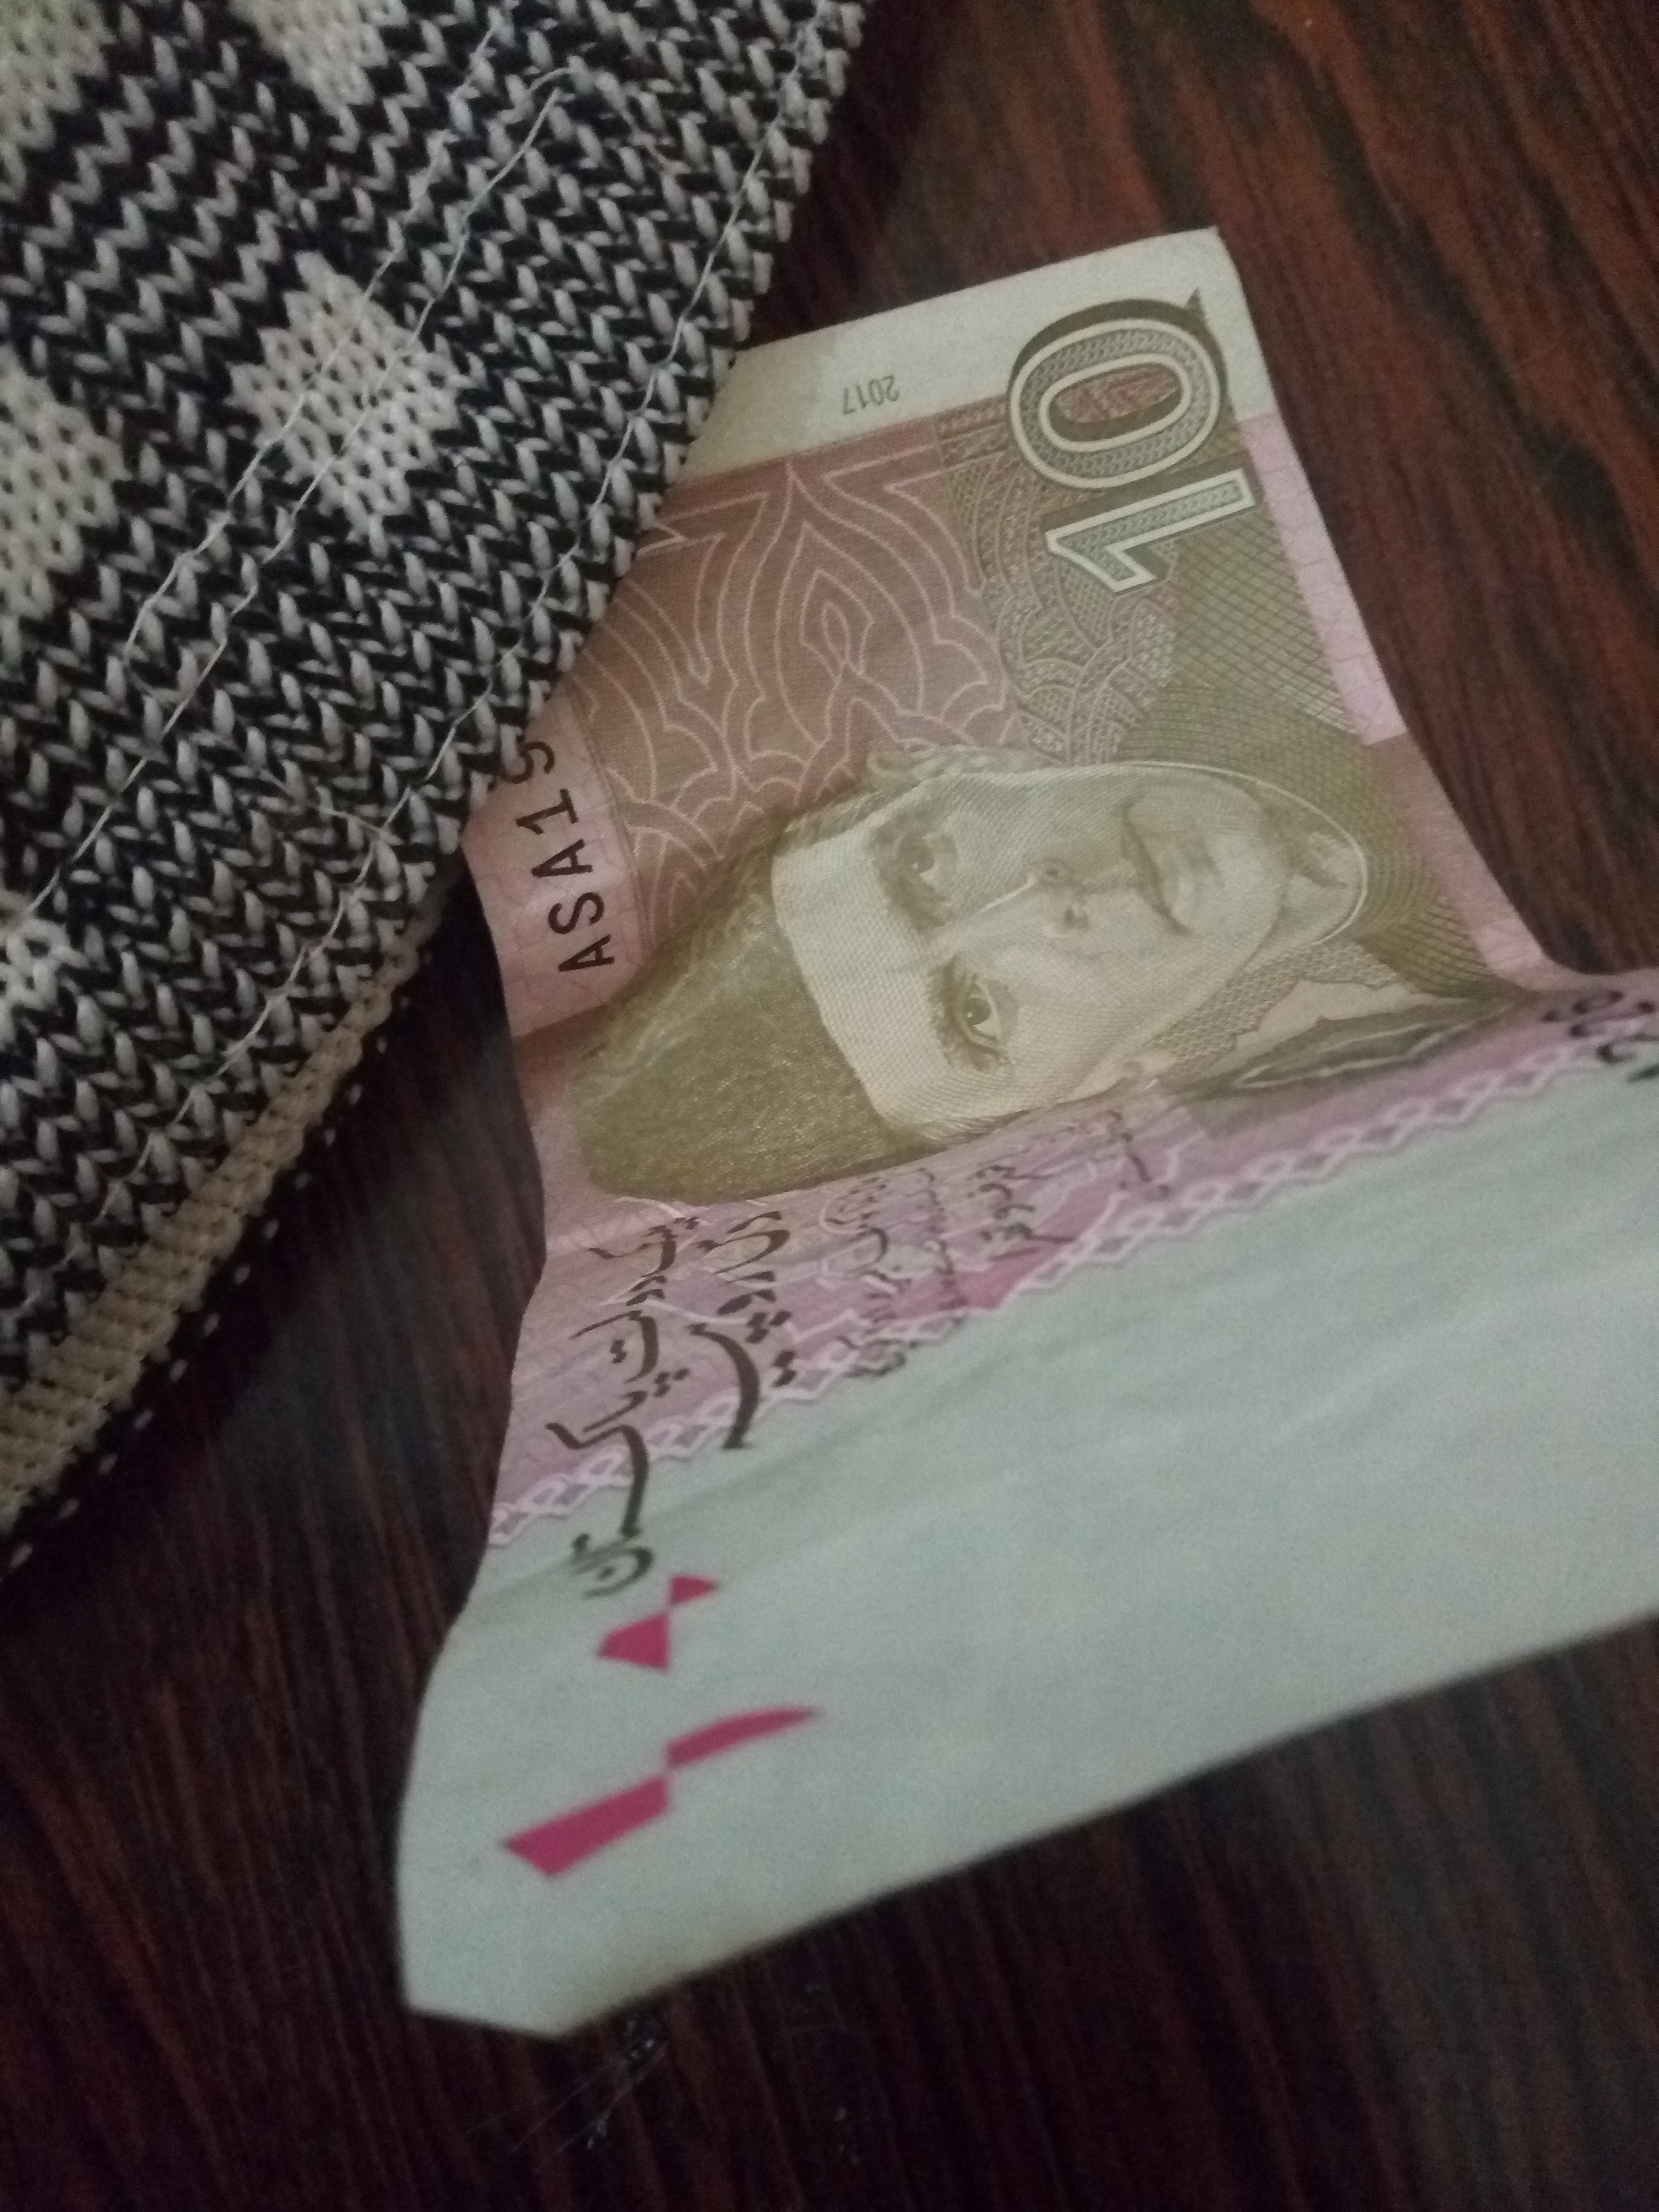10 rupee: (373, 216, 1659, 2113)
